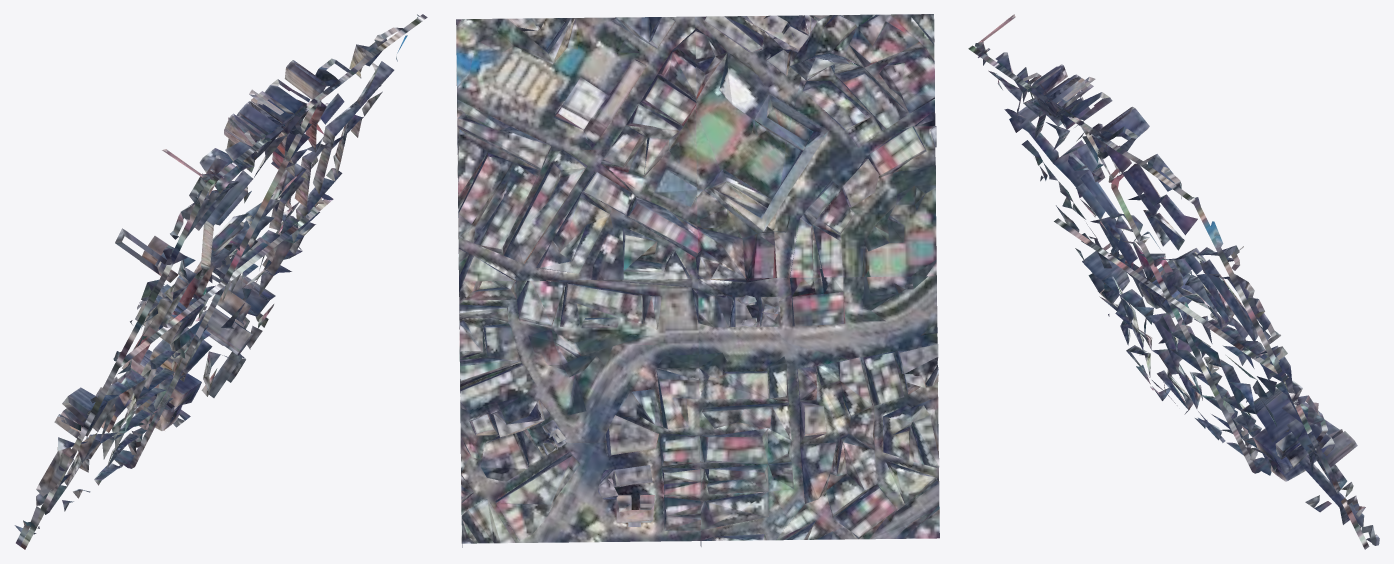
3 views of the same model, side by side, from view 1: azimuth 30°, elevation 25°; view 2: azimuth 150°, elevation 25°; view 3: azimuth 270°, elevation 25° (orthographic). The views are drawn at different scales.
Bounding box in the file's own units: 616 × 588 × 528.
1 material, 1 textured.
